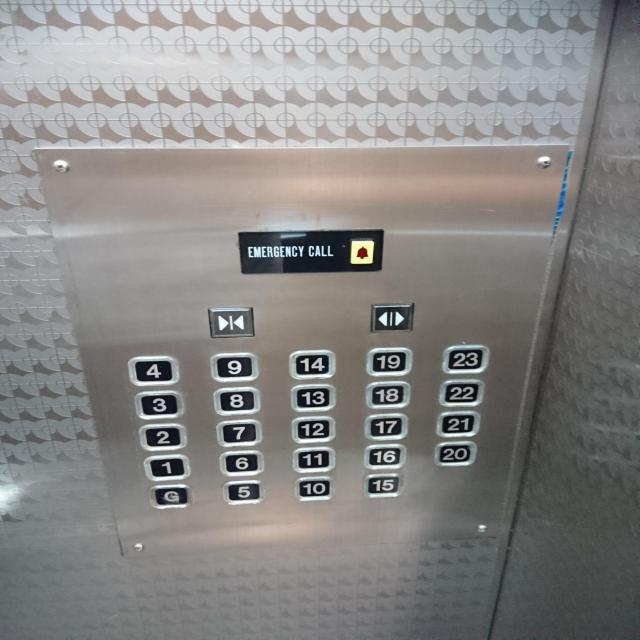1: (143, 454, 190, 481)
10: (294, 476, 332, 500)
11: (292, 446, 336, 473)
12: (291, 415, 335, 443)
13: (289, 383, 336, 412)
14: (288, 349, 336, 379)
15: (363, 473, 403, 497)
16: (363, 443, 406, 469)
17: (364, 413, 408, 440)
18: (364, 381, 410, 409)
19: (366, 347, 412, 375)
2: (138, 423, 187, 451)
20: (434, 441, 476, 466)
21: (436, 410, 480, 436)
22: (439, 379, 483, 406)
23: (442, 345, 489, 373)
3: (134, 390, 184, 420)
4: (127, 356, 179, 386)
5: (221, 480, 266, 506)
6: (219, 450, 264, 476)
7: (216, 418, 262, 446)
8: (212, 387, 260, 415)
9: (209, 352, 259, 382)
G: (148, 484, 194, 510)
alarm: (348, 236, 375, 265)
close: (206, 305, 255, 340)
open: (368, 300, 418, 334)
